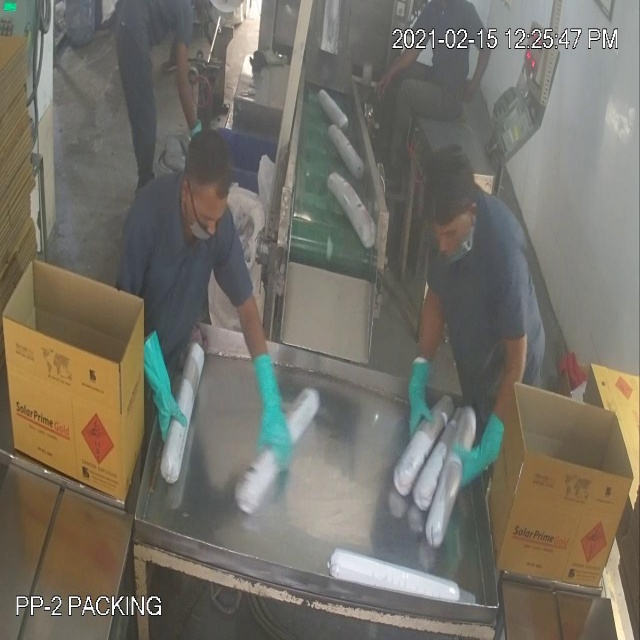Guantes: (243, 315, 296, 487), (138, 310, 190, 459), (448, 398, 513, 494), (403, 349, 446, 450)
Sin_guantes: (168, 36, 209, 129), (371, 36, 426, 104), (469, 35, 497, 101)
